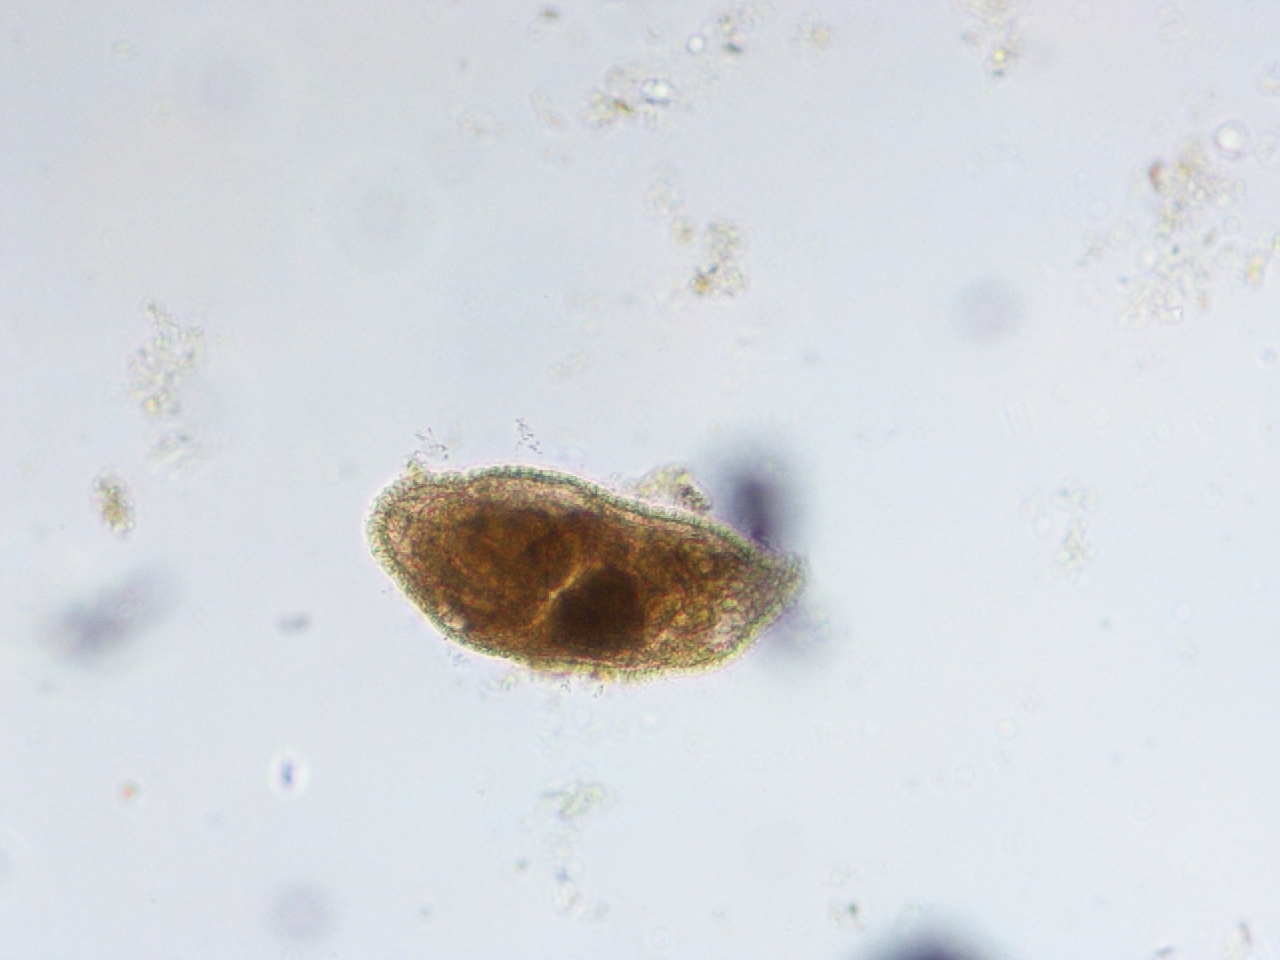turbellarians: (365, 463, 801, 679)
